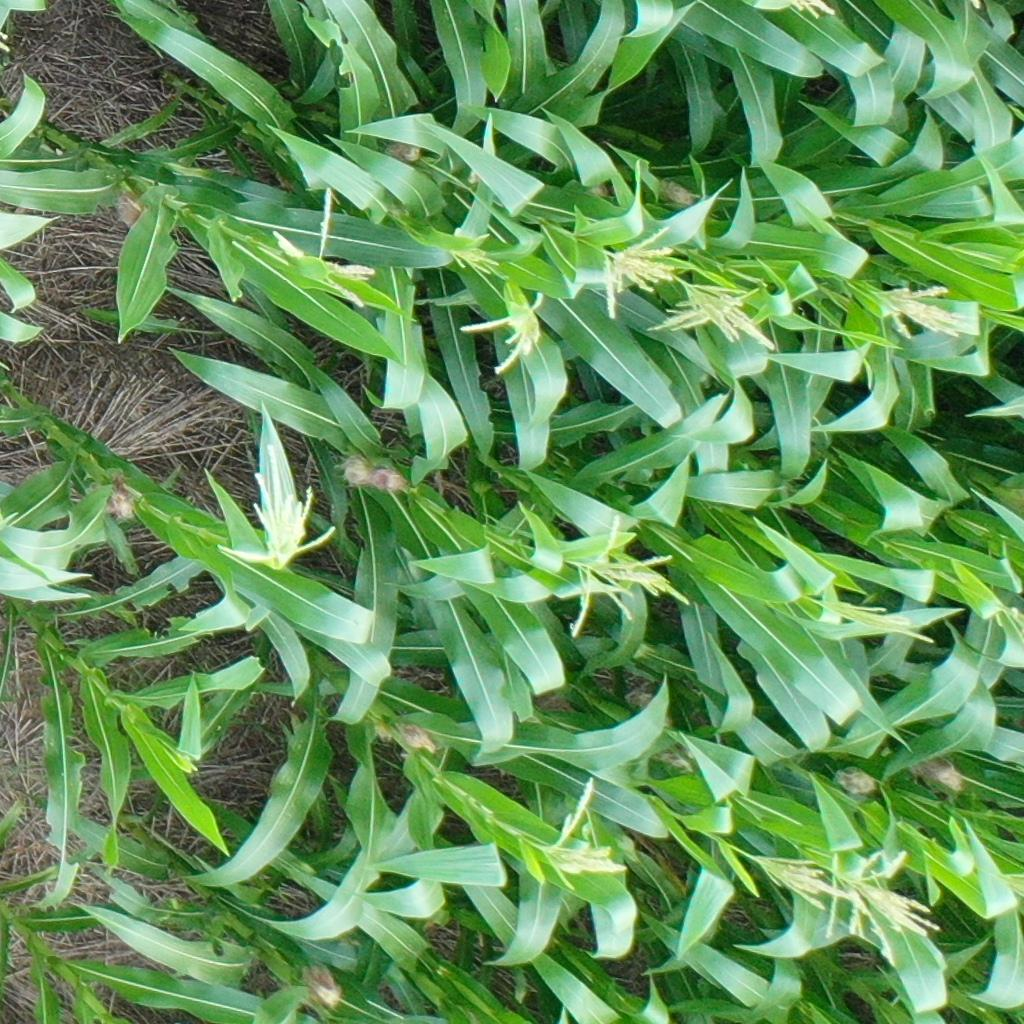Tassel: (555, 508, 690, 641), (215, 438, 337, 571), (827, 838, 944, 962), (267, 183, 378, 310), (532, 774, 633, 897), (644, 284, 781, 353), (594, 223, 684, 319), (456, 285, 548, 376), (808, 582, 938, 644), (876, 273, 968, 343), (755, 849, 846, 908), (447, 219, 501, 284), (789, 1, 841, 28), (993, 602, 1024, 644), (166, 744, 202, 778), (996, 867, 1024, 898)
